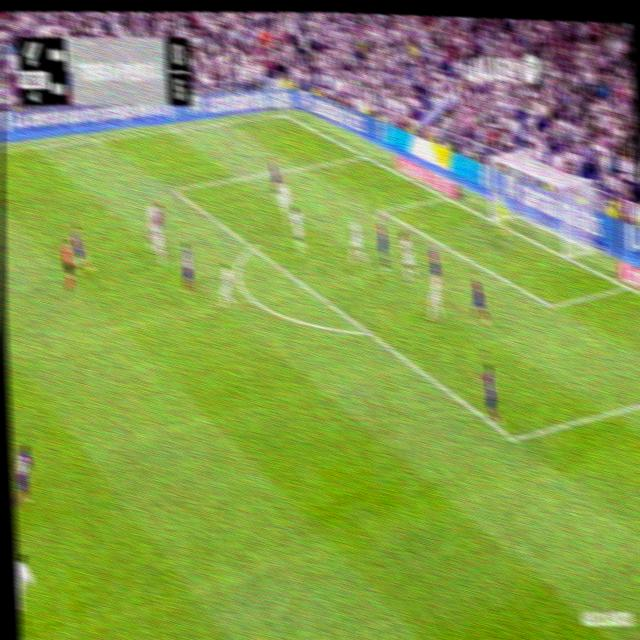bigarea_bottom_inner: (505, 424, 522, 453)
bigarea_top_inner: (166, 178, 180, 198)
bigarea_top_outter: (356, 147, 370, 162)
bottom_arc_area_intersection: (360, 320, 375, 342)
corner: (277, 107, 289, 120)
smallarea_bottom_inner: (544, 294, 557, 315)
smallarea_bottom_outter: (618, 276, 632, 294)
smallarea_top_inner: (377, 202, 388, 217)
top_arc_area_intersection: (244, 236, 258, 254)
